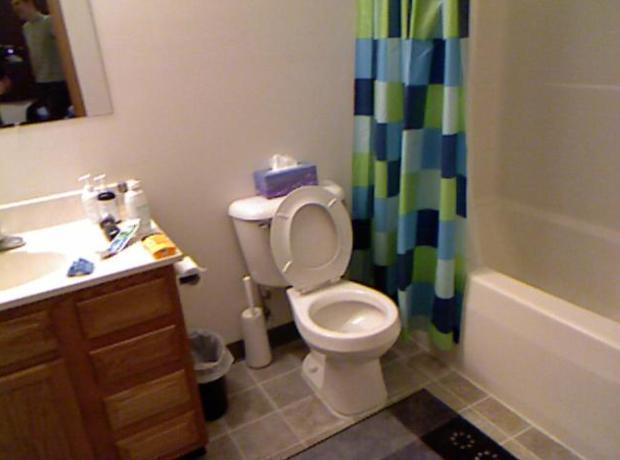Bote de Basura: (186, 319, 234, 428)
Lavamanos: (3, 228, 76, 314)
Sanitario: (233, 190, 416, 424)
